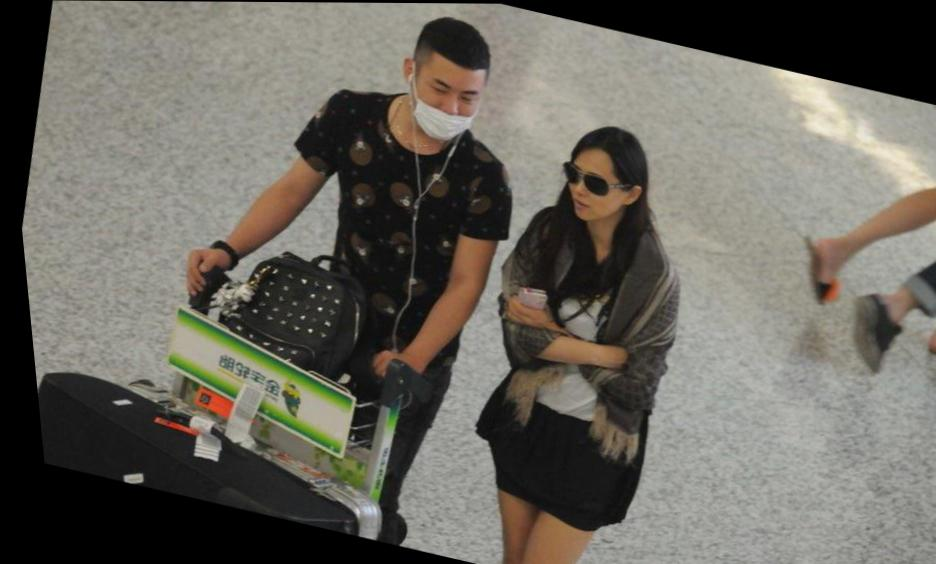NONE: (549, 152, 632, 233)
WRONG: (406, 71, 487, 148)
